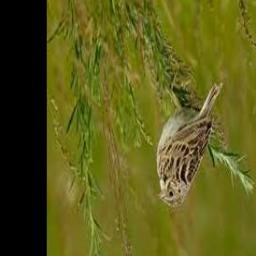Sparrow: (156, 81, 224, 207)
